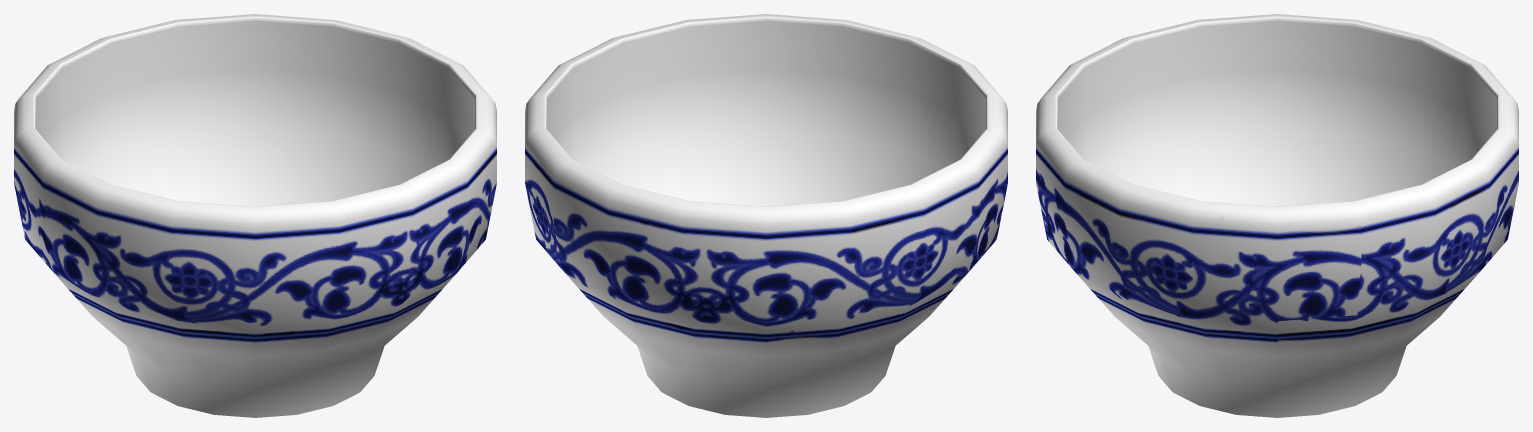
The model's file is Glass_2_fbx.FBX.
The picture shows the model from 3 angles, left to right: view 1: azimuth 30°, elevation 25°; view 2: azimuth 150°, elevation 25°; view 3: azimuth 270°, elevation 25°; orthographic projection.
Visible parts, largest first — view 1: glass; view 2: glass; view 3: glass.
Boxes of the visible parts, bbox=[...] form: glass: bbox=[14, 14, 496, 417]; glass: bbox=[525, 14, 1007, 417]; glass: bbox=[1036, 14, 1518, 417].
Size of the model in its own units: 16.04 by 9.2 by 15.79.
